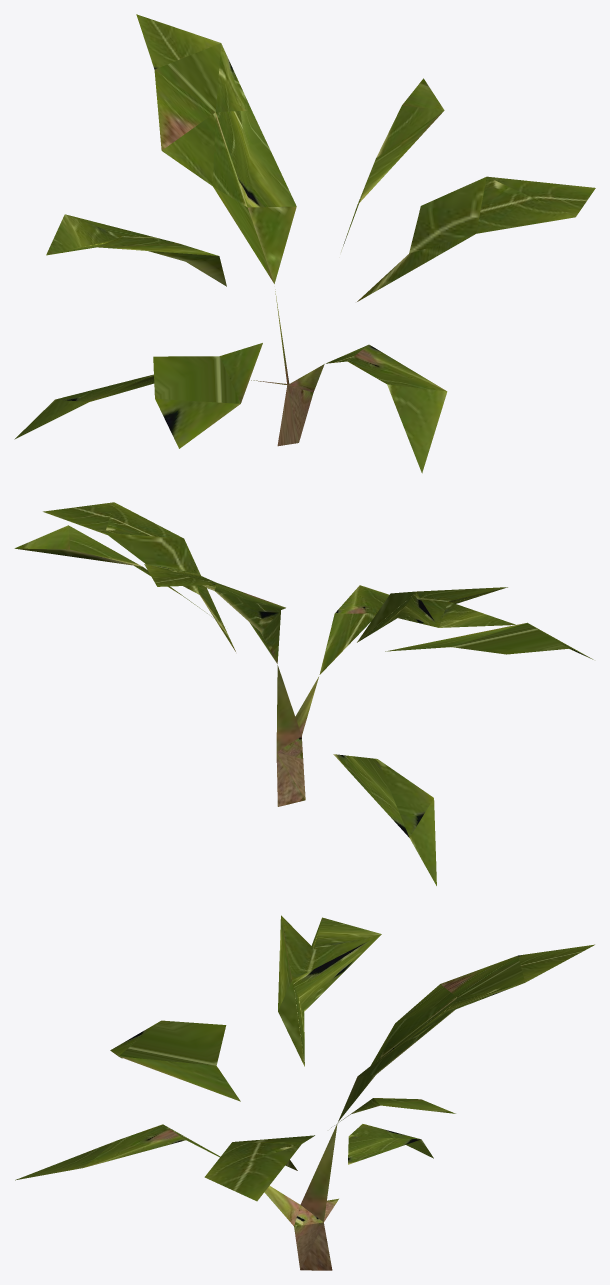
The model's file is ea_cupfern_lod2.glb.
The picture shows the model from 3 angles, top to bottom: view 1: azimuth 30°, elevation 25°; view 2: azimuth 150°, elevation 25°; view 3: azimuth 270°, elevation 25°; orthographic projection. The views are drawn at different scales.
Visible parts, largest first — view 1: output_unwrapped; view 2: output_unwrapped; view 3: output_unwrapped.
Part boxes in pixels (left/top/right/bottom): output_unwrapped: left=14, top=14, right=595, bottom=473; output_unwrapped: left=14, top=502, right=593, bottom=885; output_unwrapped: left=15, top=915, right=594, bottom=1270.
Size of the model in its own units: 1.55 by 0.929 by 1.52.
1 material, 1 textured.
